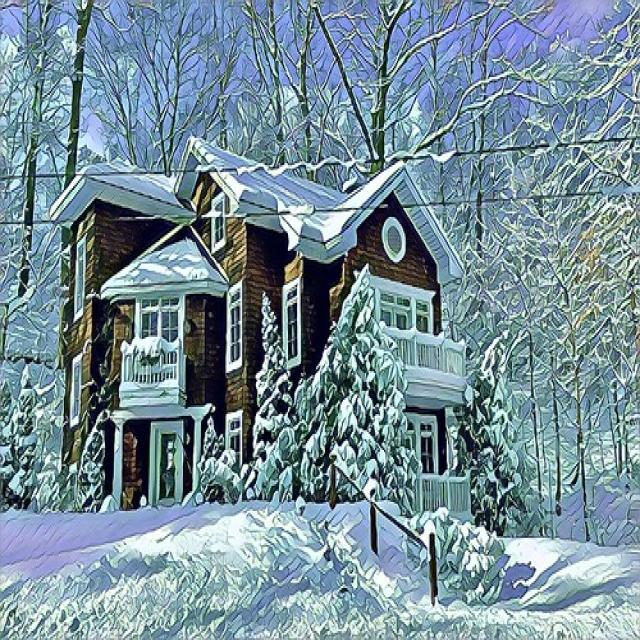Normal_building: (45, 134, 477, 532)
